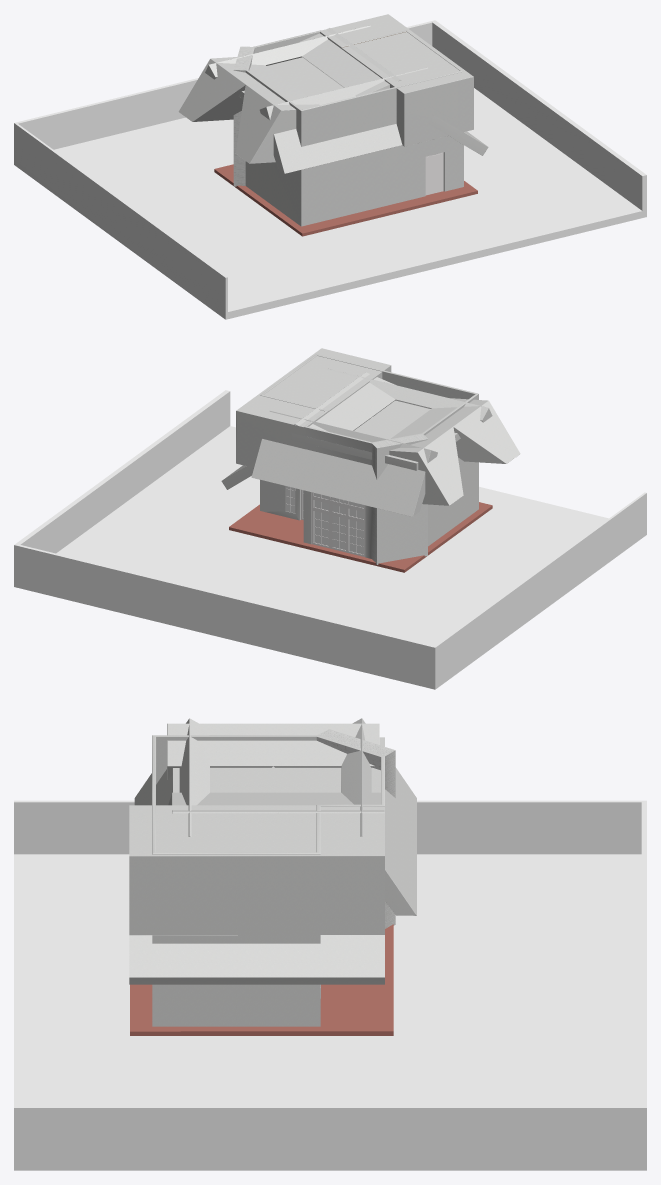
Rendered from FloorPlan218_physics.fbx.
The picture shows the model from 3 angles, top to bottom: view 1: azimuth 30°, elevation 25°; view 2: azimuth 150°, elevation 25°; view 3: azimuth 270°, elevation 25°; orthographic projection. The views are drawn at different scales.
Visible parts, largest first — view 1: FP218:Cube.1074, FP218:polySurface1, FP218:polySurface2, FP218:polySurface13, FP218:polySurface43; view 2: FP218:Cube.1074, FP218:polySurface1, FP218:polySurface2, FP218:polySurface13, FP218:polySurface37; view 3: FP218:Cube.1074, FP218:polySurface1, FP218:polySurface2, FP218:polySurface13.
Part boxes in pixels (x1=…): FP218:Cube.1074: x1=14, y1=20, x2=646, y2=319; FP218:polySurface1: x1=178, y1=14, x2=488, y2=173; FP218:polySurface2: x1=233, y1=30, x2=463, y2=226; FP218:polySurface13: x1=214, y1=164, x2=477, y2=236; FP218:polySurface43: x1=426, y1=153, x2=442, y2=194; FP218:Cube.1074: x1=14, y1=390, x2=646, y2=689; FP218:polySurface1: x1=221, y1=348, x2=520, y2=516; FP218:polySurface2: x1=260, y1=354, x2=478, y2=564; FP218:polySurface13: x1=229, y1=502, x2=492, y2=572; FP218:polySurface37: x1=314, y1=493, x2=363, y2=554; FP218:Cube.1074: x1=14, y1=800, x2=646, y2=1170; FP218:polySurface1: x1=129, y1=718, x2=416, y2=984; FP218:polySurface2: x1=152, y1=729, x2=395, y2=1026; FP218:polySurface13: x1=130, y1=924, x2=393, y2=1035.
Bounding box in the file's own units: 2262 × 747 × 1968.
